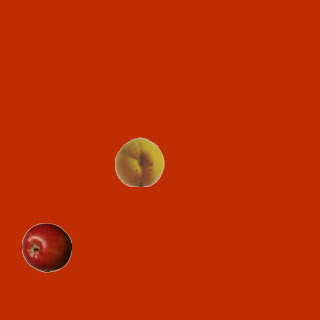Apple Braeburn: (21, 222, 71, 272)
Peach 2: (114, 136, 164, 186)
